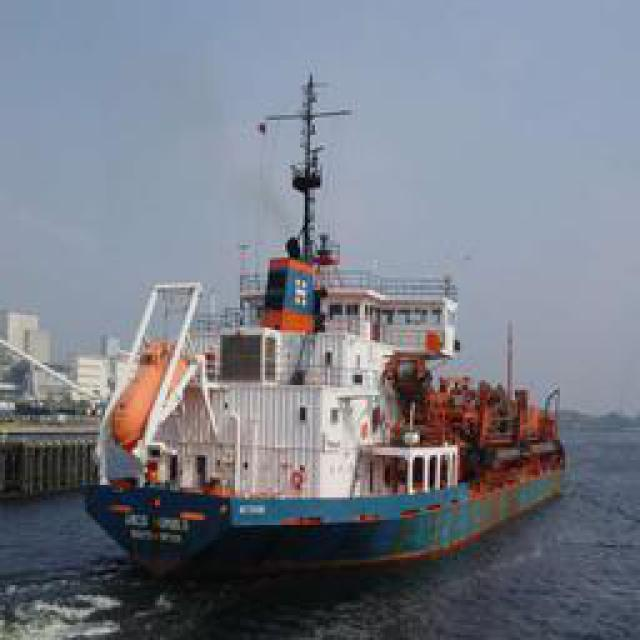Ship: (87, 69, 560, 589)
